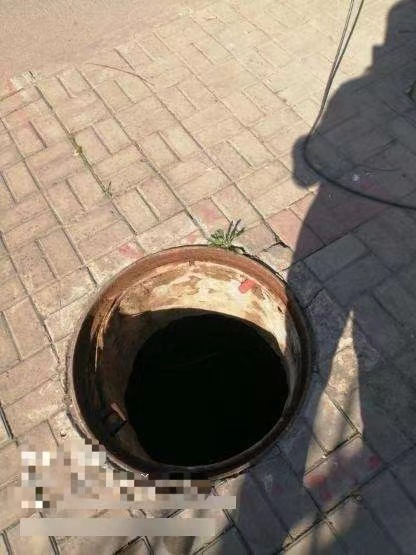well: (61, 238, 333, 488), (291, 0, 416, 231)
